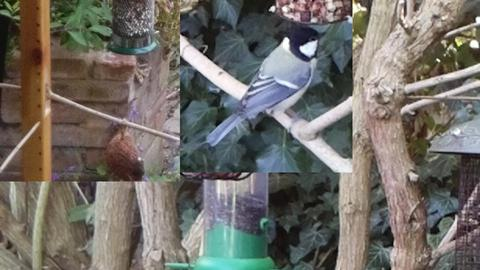great tit: (205, 25, 328, 148)
